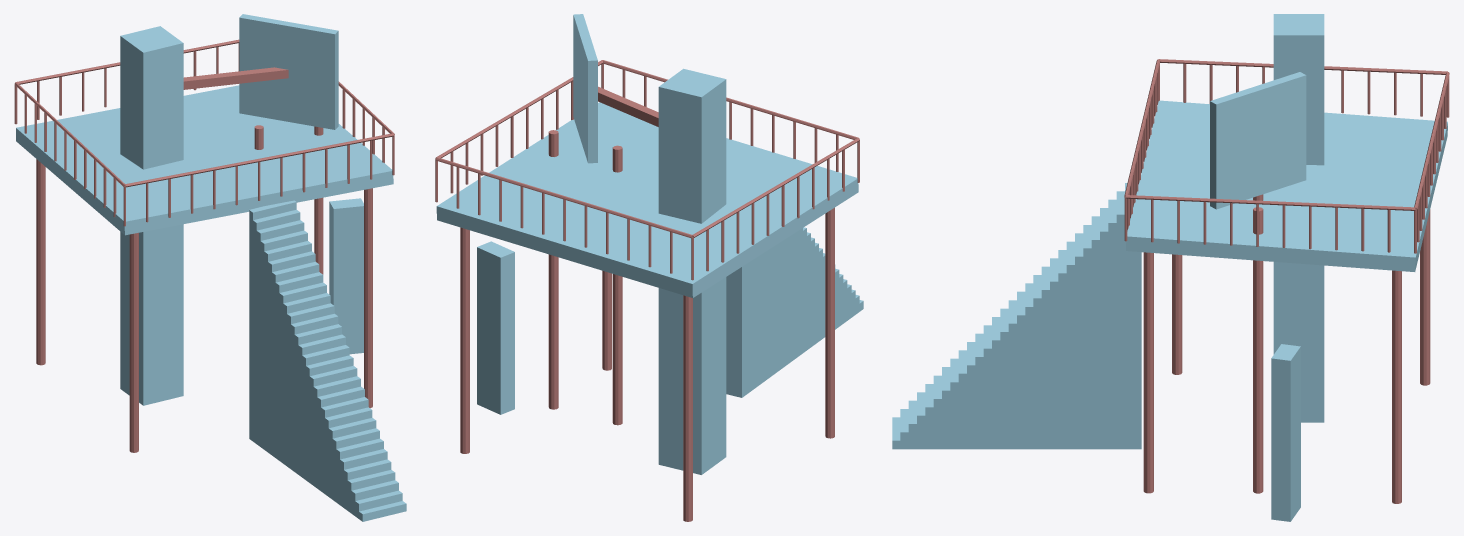
File: folie_tag_066.glb
3 views of the same model, side by side, from view 1: azimuth 30°, elevation 25°; view 2: azimuth 150°, elevation 25°; view 3: azimuth 270°, elevation 25° (orthographic). The views are drawn at different scales.
Parts seen in each view (by area): view 1: folie_tag_066_stairs, folie_tag_066_00_plate, folie_tag_066_core, folie_tag_066_line, folie_tag_066_01_panel, folie_tag_066_02_fin; view 2: folie_tag_066_00_plate, folie_tag_066_line, folie_tag_066_core, folie_tag_066_stairs, folie_tag_066_02_fin, folie_tag_066_01_panel; view 3: folie_tag_066_stairs, folie_tag_066_00_plate, folie_tag_066_line, folie_tag_066_core, folie_tag_066_01_panel, folie_tag_066_02_fin.
Boxes of the visible parts, x1,y1,x2,y2 form: folie_tag_066_stairs: (249, 200, 406, 521); folie_tag_066_00_plate: (16, 85, 393, 235); folie_tag_066_core: (120, 26, 183, 405); folie_tag_066_line: (14, 39, 394, 452); folie_tag_066_01_panel: (239, 14, 338, 129); folie_tag_066_02_fin: (329, 198, 363, 354); folie_tag_066_00_plate: (436, 102, 858, 297); folie_tag_066_line: (435, 60, 859, 521); folie_tag_066_core: (658, 68, 726, 474); folie_tag_066_stairs: (726, 227, 863, 397); folie_tag_066_02_fin: (477, 241, 514, 414); folie_tag_066_01_panel: (573, 14, 597, 163); folie_tag_066_stairs: (892, 183, 1141, 449); folie_tag_066_00_plate: (1126, 100, 1447, 271); folie_tag_066_line: (1124, 59, 1449, 503); folie_tag_066_core: (1273, 14, 1324, 422); folie_tag_066_01_panel: (1210, 72, 1306, 209); folie_tag_066_02_fin: (1271, 344, 1300, 521).
Size of the model in its own units: 8.17 by 9.26 by 12.08.
